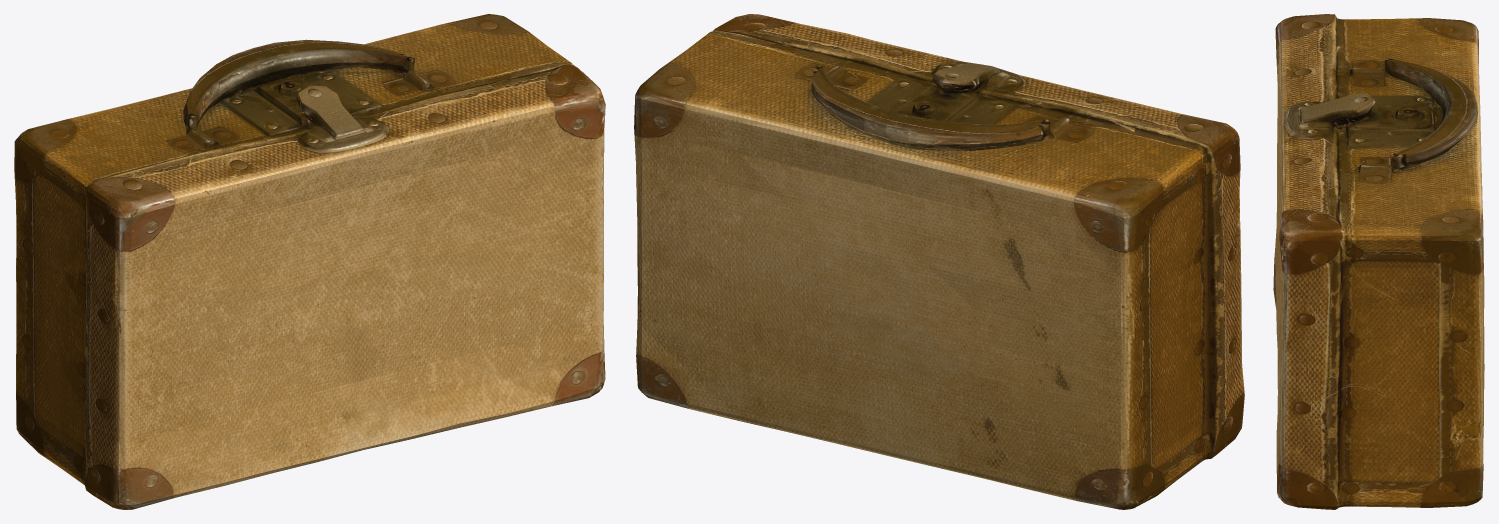
Rendered from vintage.obj.
The picture shows the model from 3 angles, left to right: view 1: azimuth 30°, elevation 25°; view 2: azimuth 150°, elevation 25°; view 3: azimuth 270°, elevation 25°; orthographic projection. The views are drawn at different scales.
Bounding box in the file's own units: 0.7 × 0.45 × 0.28.
